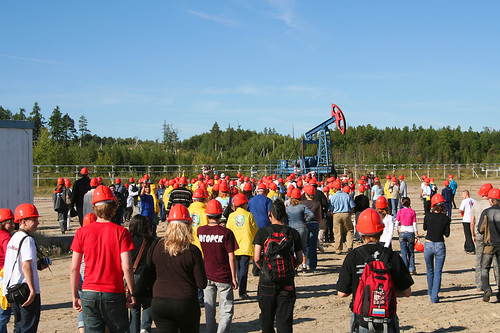person hardhat: (345, 207, 403, 333), (82, 186, 132, 331), (147, 203, 202, 333), (13, 204, 54, 331), (200, 199, 238, 332), (1, 207, 20, 333), (428, 193, 449, 305), (482, 188, 500, 310), (476, 184, 494, 291), (234, 195, 252, 295), (290, 186, 310, 271), (331, 182, 356, 249), (306, 185, 323, 273), (252, 185, 274, 244), (373, 196, 396, 250), (311, 174, 328, 246), (189, 186, 209, 236), (341, 185, 354, 250), (54, 176, 68, 231), (172, 176, 193, 210), (422, 178, 435, 229), (78, 167, 90, 222), (442, 179, 455, 228), (85, 176, 101, 214), (113, 177, 128, 213), (448, 170, 460, 214), (177, 175, 193, 208), (419, 172, 428, 220), (128, 174, 139, 213), (219, 183, 230, 219), (359, 183, 372, 213), (155, 178, 166, 213), (389, 176, 401, 208), (138, 175, 151, 202), (164, 176, 174, 211), (373, 177, 384, 207), (362, 174, 372, 202), (243, 184, 255, 207), (359, 180, 370, 204), (327, 177, 338, 201), (270, 183, 282, 204), (429, 177, 439, 201), (399, 175, 407, 201), (221, 179, 231, 199), (384, 175, 393, 197), (278, 176, 287, 197), (195, 172, 205, 190), (350, 177, 358, 197), (199, 182, 206, 203), (298, 177, 306, 193), (287, 175, 296, 187), (214, 185, 220, 202), (343, 177, 349, 193), (234, 183, 241, 196), (252, 176, 257, 192), (244, 174, 250, 185), (215, 175, 219, 183)
